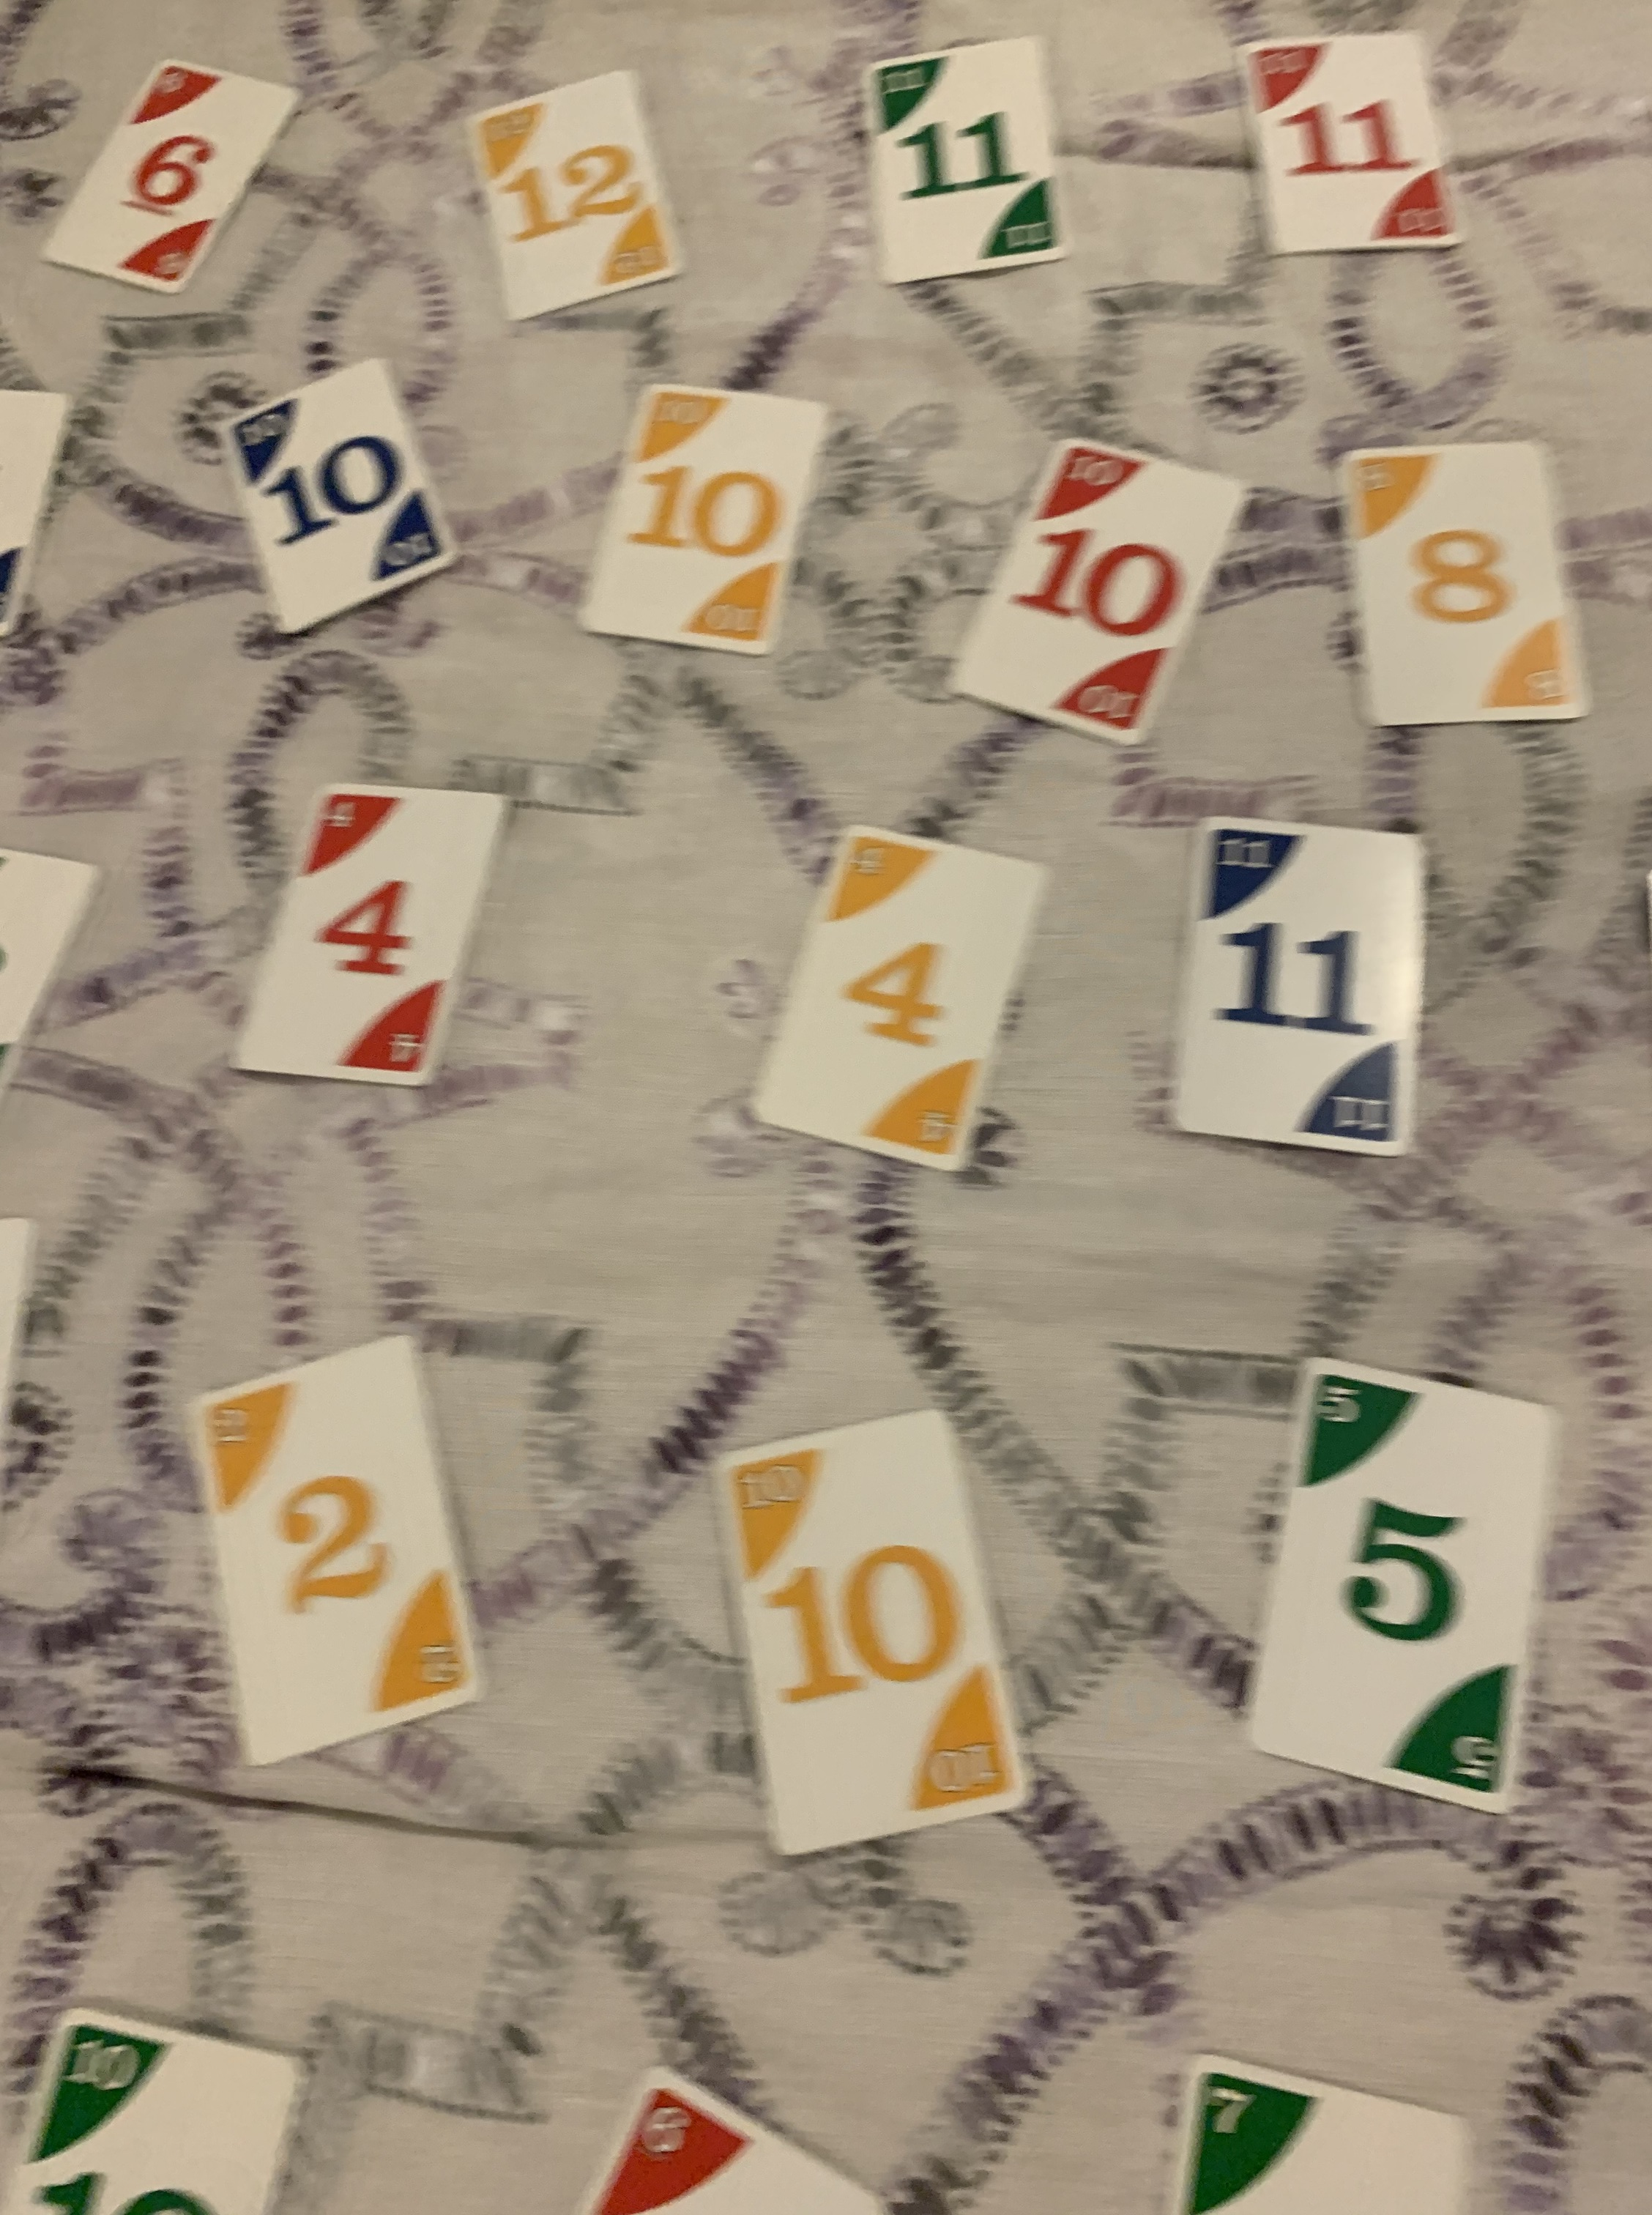eight: (1331, 434, 1598, 738)
eleven: (1161, 814, 1432, 1168), (855, 28, 1081, 288), (1237, 26, 1475, 262)
five: (1239, 1352, 1558, 1819)
four: (739, 816, 1053, 1187), (226, 779, 515, 1099)
six: (35, 52, 300, 299)
ten: (711, 1408, 1032, 1859), (951, 432, 1253, 746), (571, 377, 831, 661), (206, 354, 463, 637)
twelve: (458, 64, 687, 333)
two: (179, 1328, 482, 1772)
